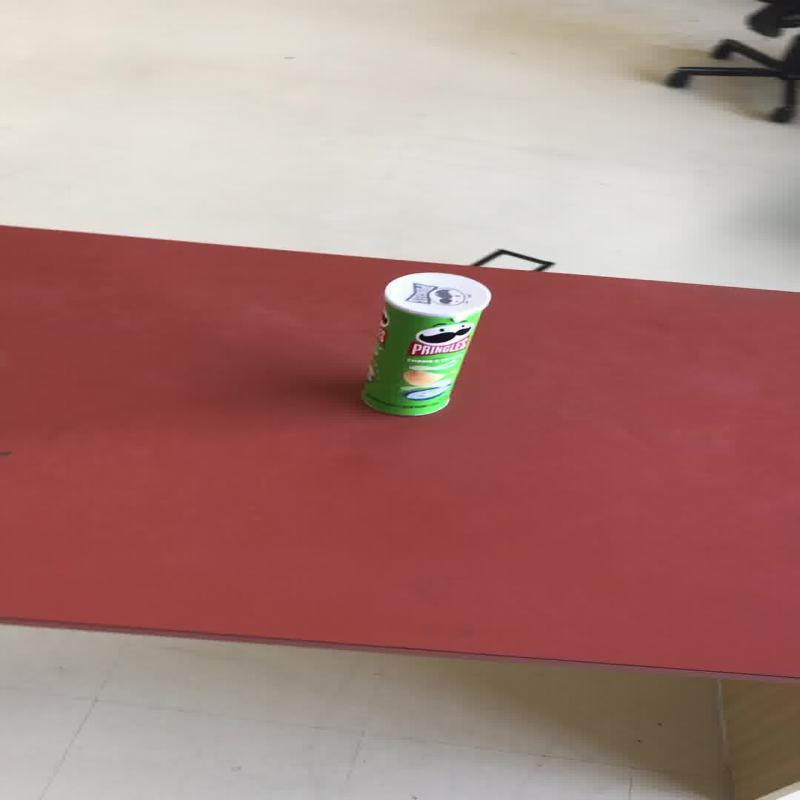pringles: (358, 271, 491, 416)
